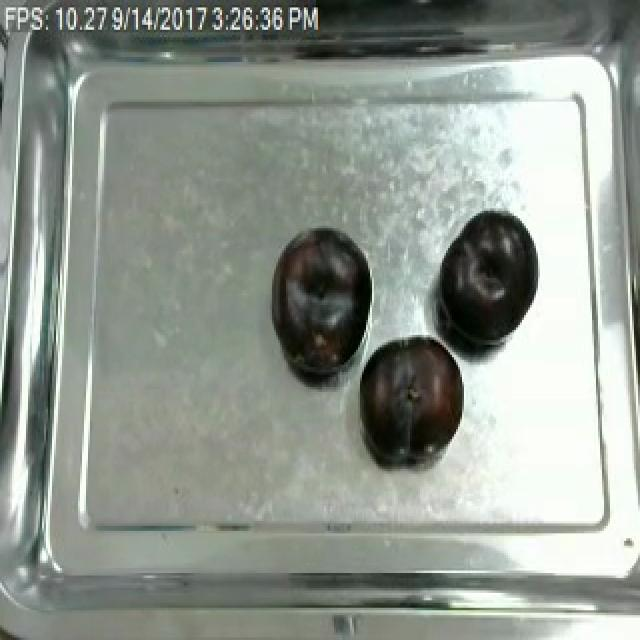Fruit: (270, 221, 372, 377), (434, 206, 540, 350), (354, 332, 466, 462)
